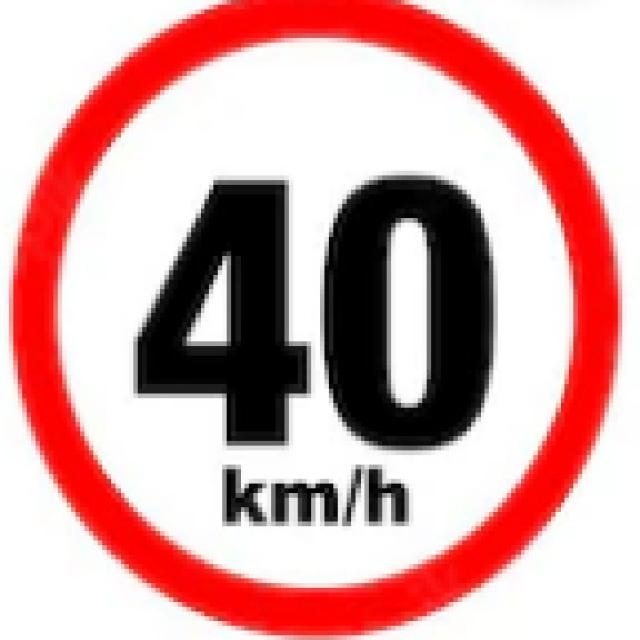Speed Limit -40-: (132, 171, 505, 453)
